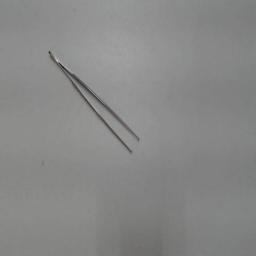Gillies Toothed Dissector: (44, 40, 144, 158)
